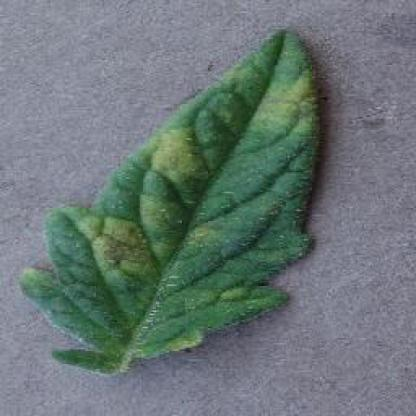Tomato_Leaf_Mold: (22, 28, 320, 371)
